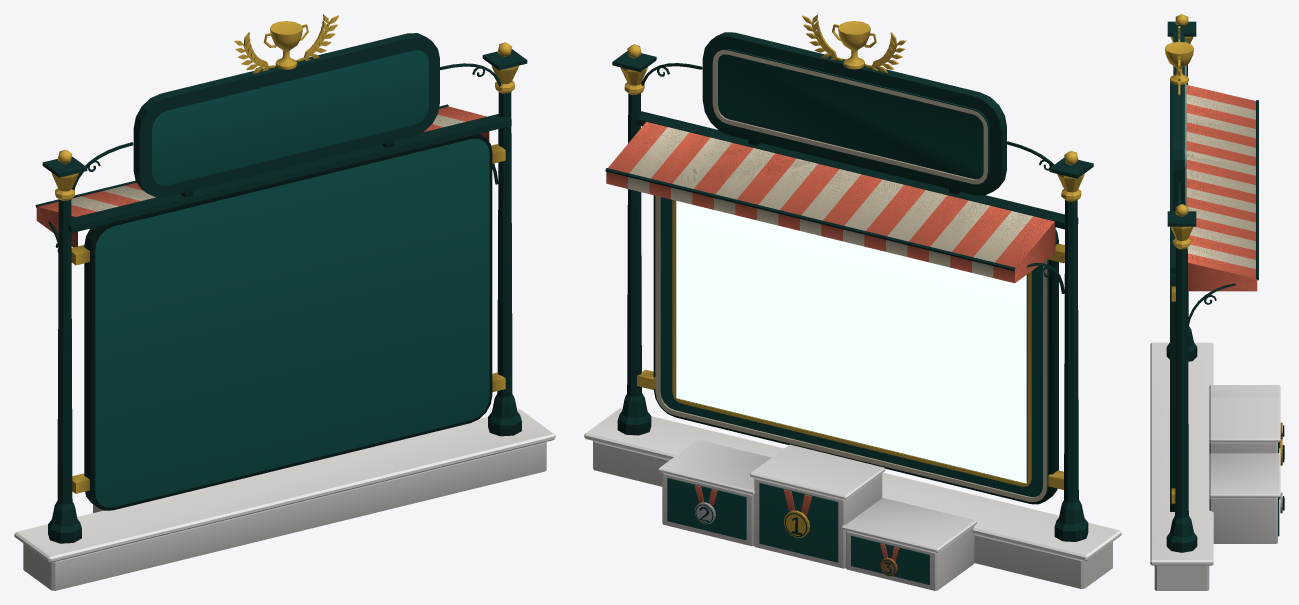
The model's file is pav_honor.glb.
3 renders of one model, left to right at view 1: azimuth 30°, elevation 25°; view 2: azimuth 150°, elevation 25°; view 3: azimuth 270°, elevation 25°, orthographic. The views are drawn at different scales.
Visible parts, largest first — view 1: static_honor; view 2: static_honor, live_board_honor; view 3: static_honor.
Boxes of the visible parts, left/top/right/bottom form: static_honor: left=14, top=14, right=555, bottom=590; static_honor: left=584, top=14, right=1121, bottom=590; live_board_honor: left=676, top=201, right=1026, bottom=483; static_honor: left=1150, top=14, right=1284, bottom=590.
Bounding box in the file's own units: 6.04 × 5.66 × 1.57.
